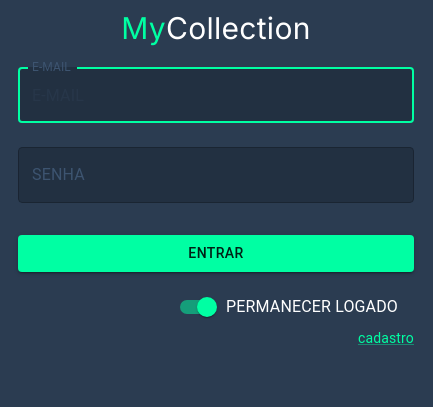
Test: Verifica erro quando e-mail não é válido
The width and height of the screenshot is (433, 407).
In the field labelled "E-MAIL": (216,95) [18,67,414,123], type "email_invalido"
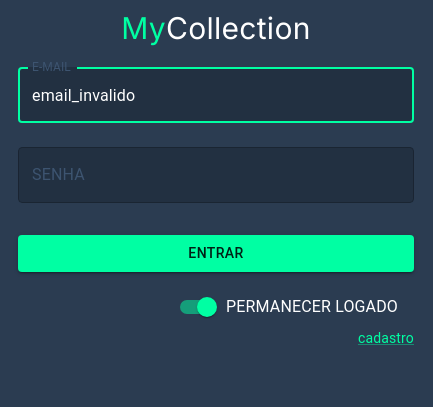
Click the button: (216,253) [18,235,414,272]
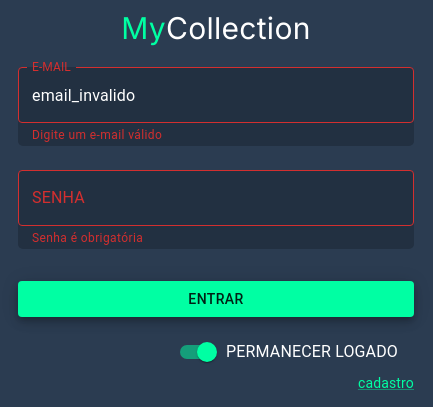
Check: the text "Digite um e-mail válido" is shown, box [32,128,162,142]
